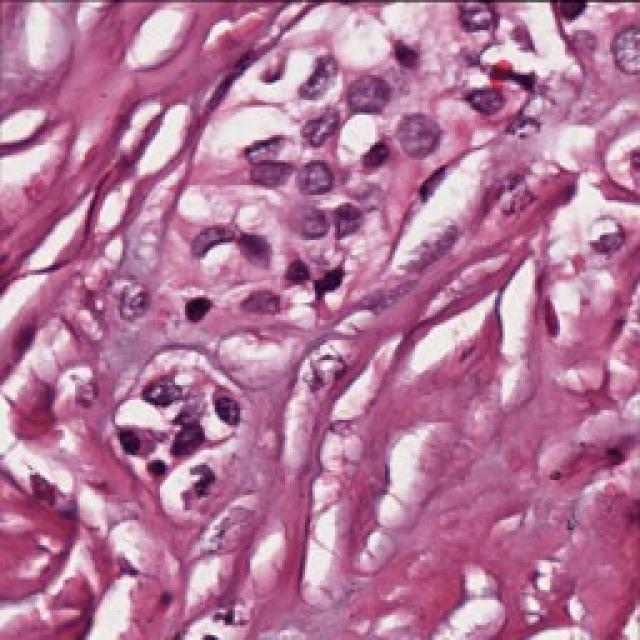abnormal: (388, 73, 465, 188), (333, 58, 402, 132), (448, 0, 527, 55), (290, 158, 355, 218), (590, 13, 640, 90)
